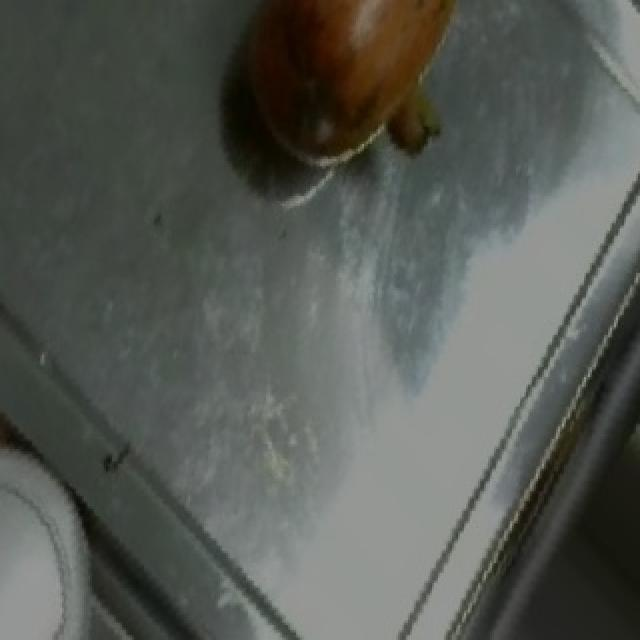fruit: (218, 0, 478, 201)
